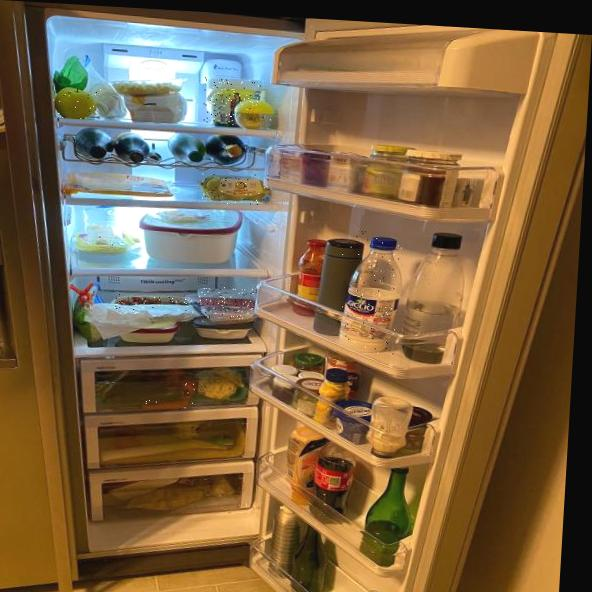apple: (50, 85, 102, 121)
carrots: (139, 399, 194, 412)
cheese: (84, 225, 118, 247)
eggs: (198, 171, 269, 207)
ham: (198, 286, 257, 321)
lemon: (233, 111, 272, 130)
milk: (336, 229, 403, 355)
tomatoes: (113, 294, 196, 314), (178, 377, 197, 396)
yoghurt: (203, 77, 261, 128)
